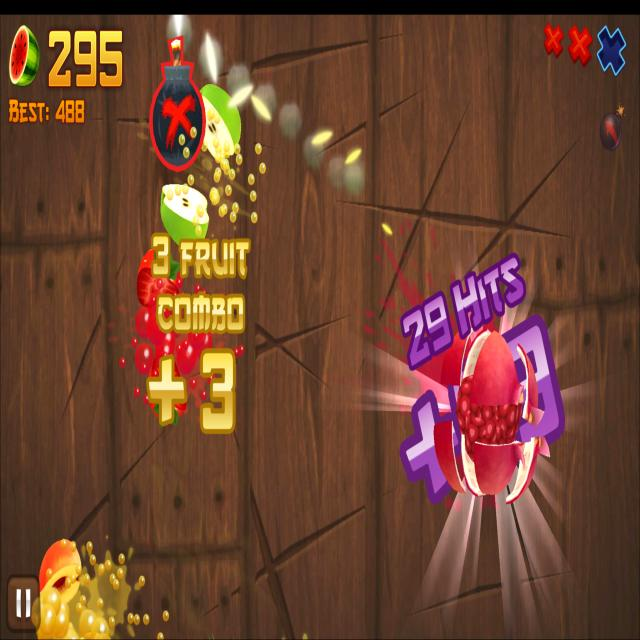bomb: (149, 36, 207, 172)
